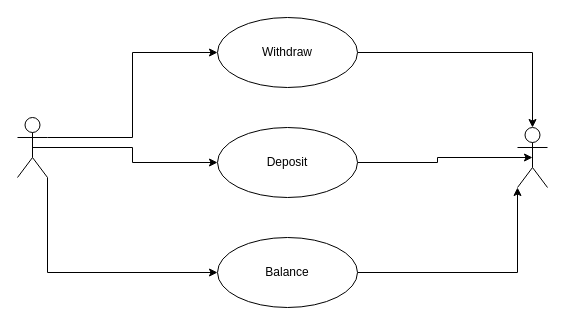
Some shapes in this 569 by 325 pixel diagram are drawn without their labels. The box of each missing label's shape, as (x1, y1, x2, y2) in pixels:
system: (516, 126, 548, 188)
User: (16, 116, 48, 178)
